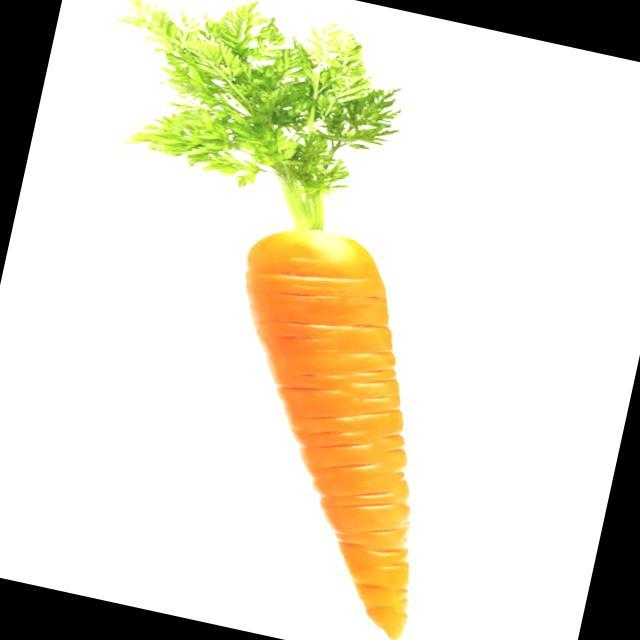carrot: (128, 2, 409, 638)
